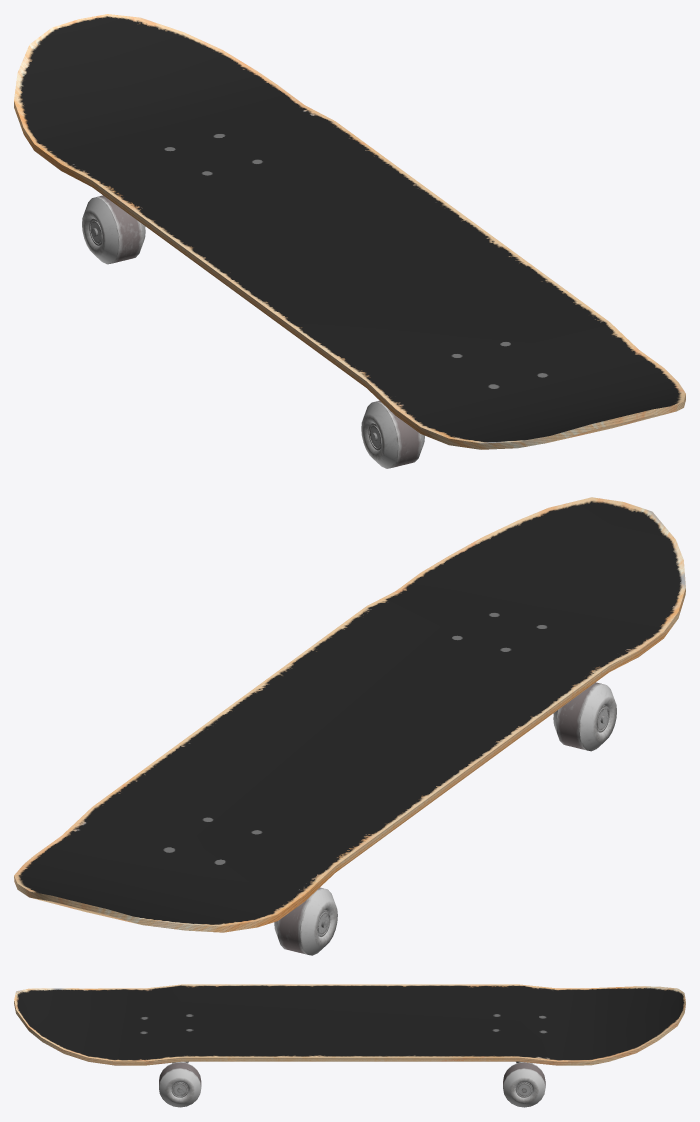
File: skate.fbx
3 renders of one model, top to bottom at view 1: azimuth 30°, elevation 25°; view 2: azimuth 150°, elevation 25°; view 3: azimuth 270°, elevation 25°, orthographic. The views are drawn at different scales.
Parts seen in each view (by area): view 1: skate1; view 2: skate1; view 3: skate1.
Part boxes in pixels (<box>): skate1: <box>14,14,685,468</box>; skate1: <box>14,497,685,955</box>; skate1: <box>14,984,685,1107</box>.
Size of the model in its own units: 1.4 by 0.6751 by 5.45.
